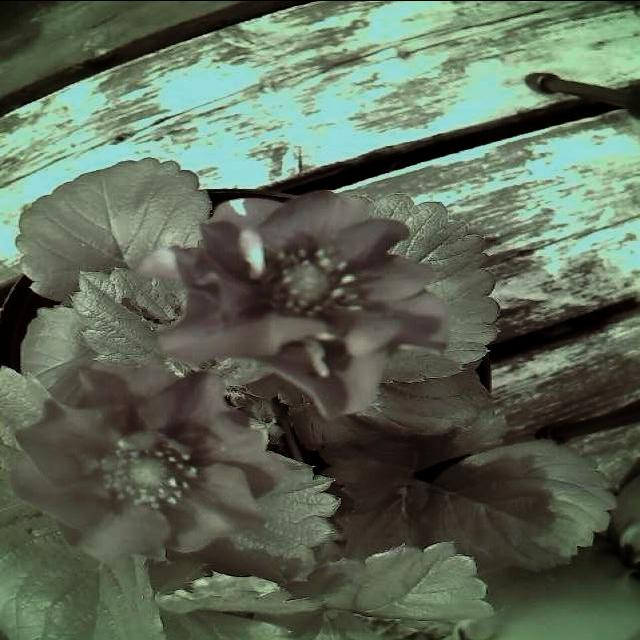flower: (150, 174, 454, 426), (12, 357, 300, 575)
